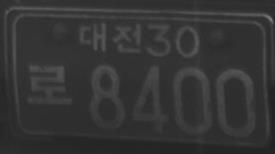0: (170, 64, 214, 138), (214, 66, 258, 139), (173, 23, 201, 60)
3: (144, 21, 173, 59)
4: (130, 63, 169, 133)
8: (87, 62, 126, 131)
대전_O: (77, 21, 144, 54)
로: (25, 62, 73, 106)
